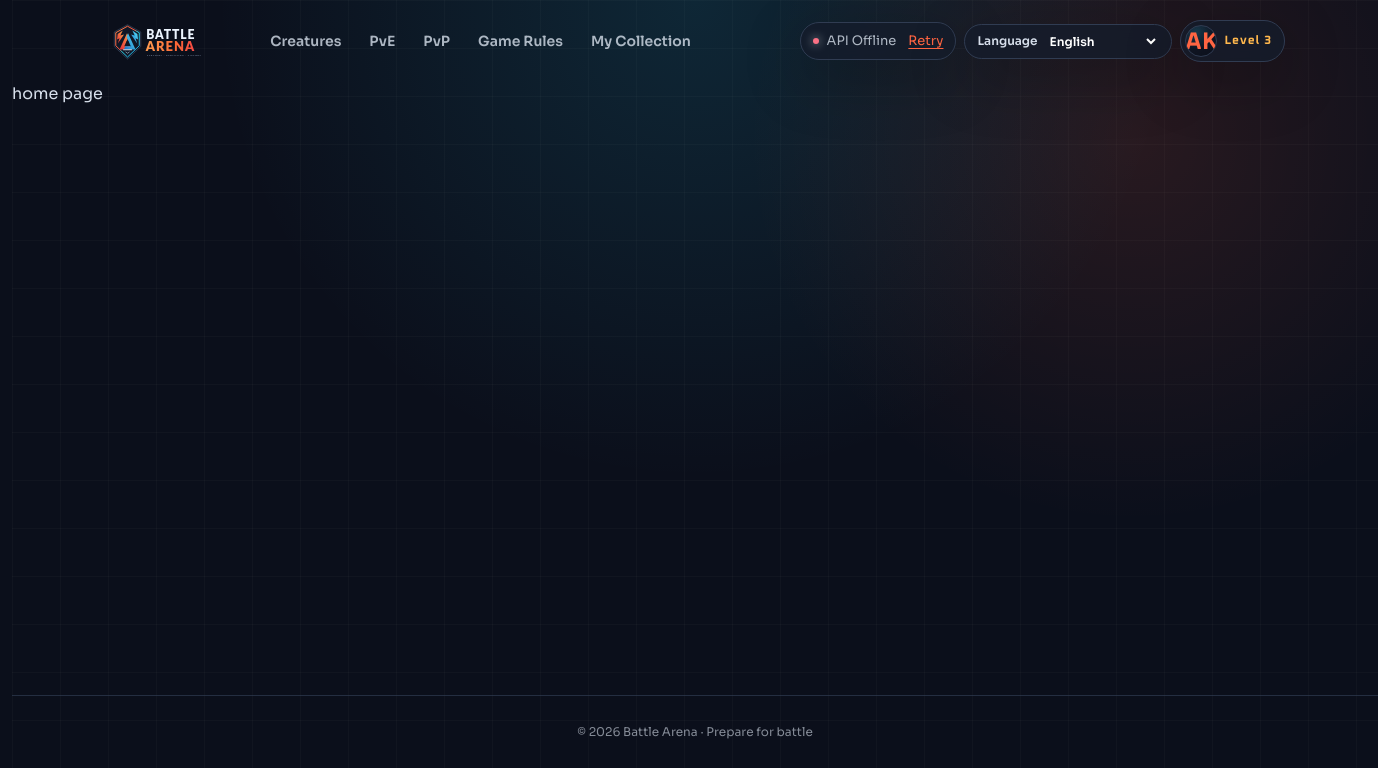
Scenario: AppShell navigation › closes the dropdown with Escape and on outside click
The width and height of the screenshot is (1378, 768).
Step 1. Click the button with aria-label "Account menu" → {"x": 1232, "y": 41}, box left=1180, top=20, right=1285, bottom=62
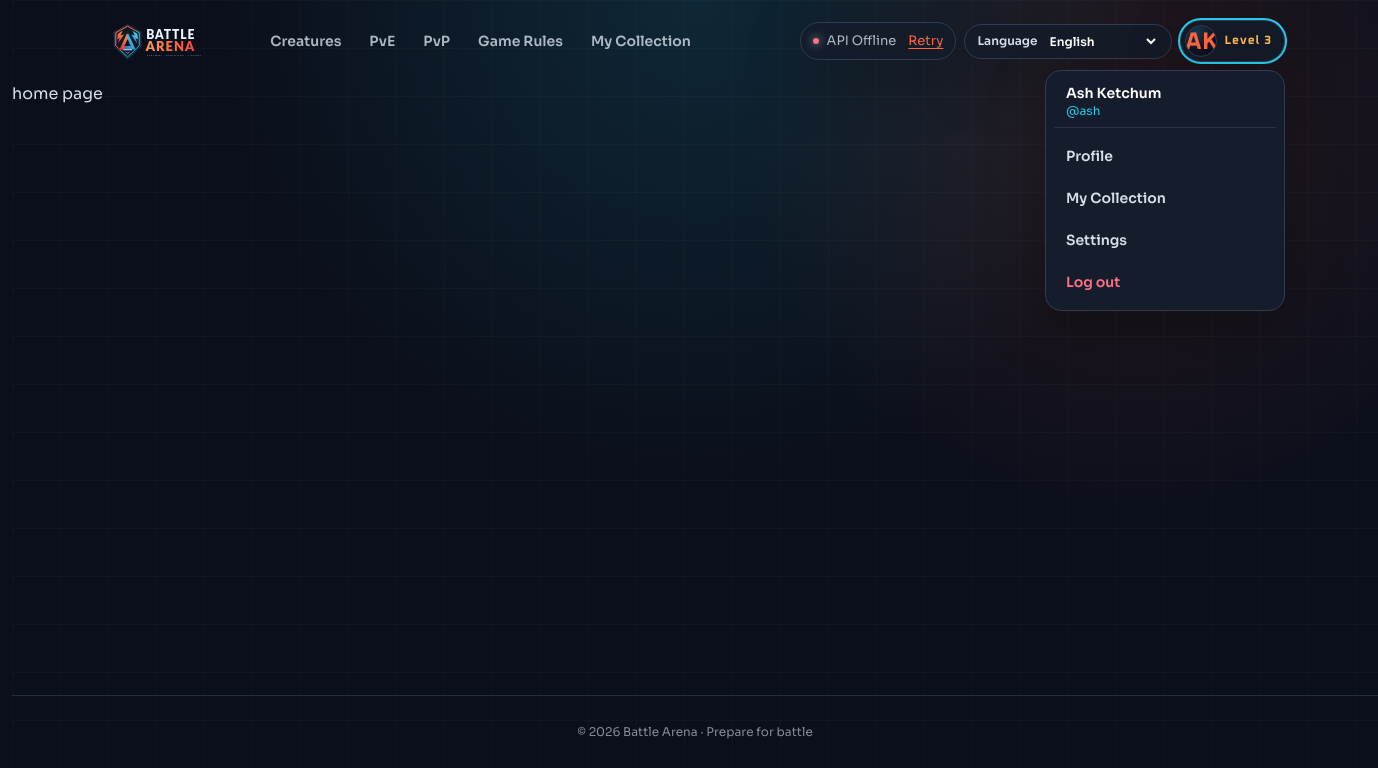
Step 2. Press Escape
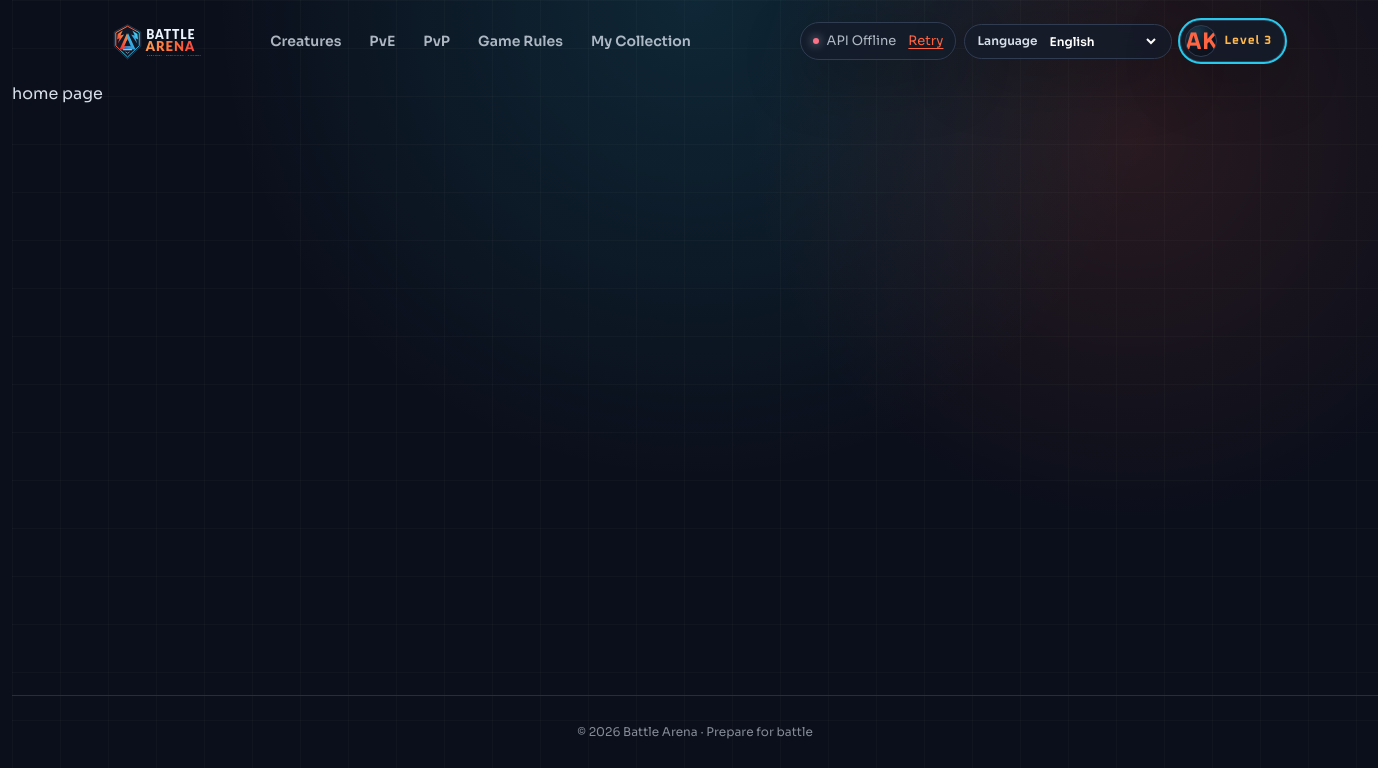
Expected: the link "Profile" is gone
Step 3. Click the button with aria-label "Account menu" → {"x": 1232, "y": 41}, box left=1180, top=20, right=1285, bottom=62
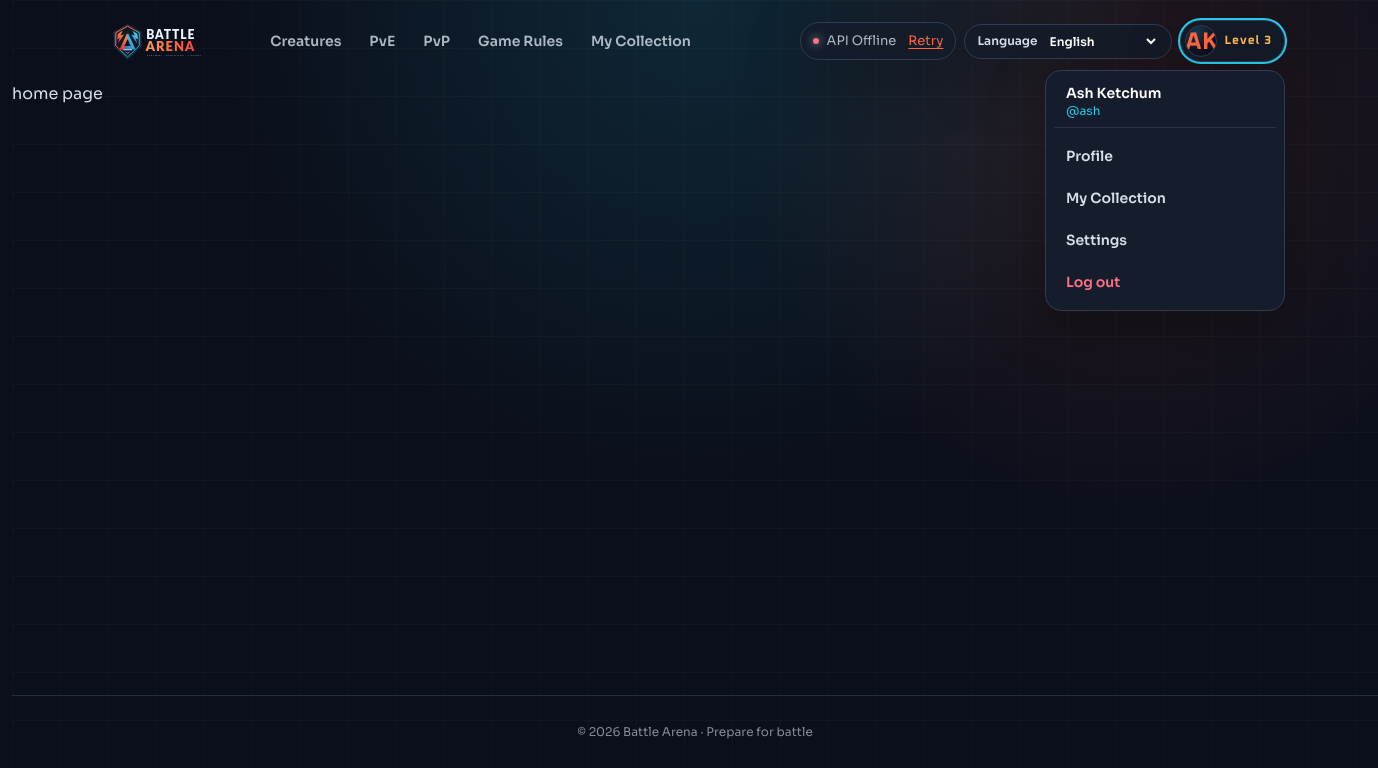
Step 4. Click the text "home page" → {"x": 57, "y": 94}, box left=12, top=83, right=103, bottom=104
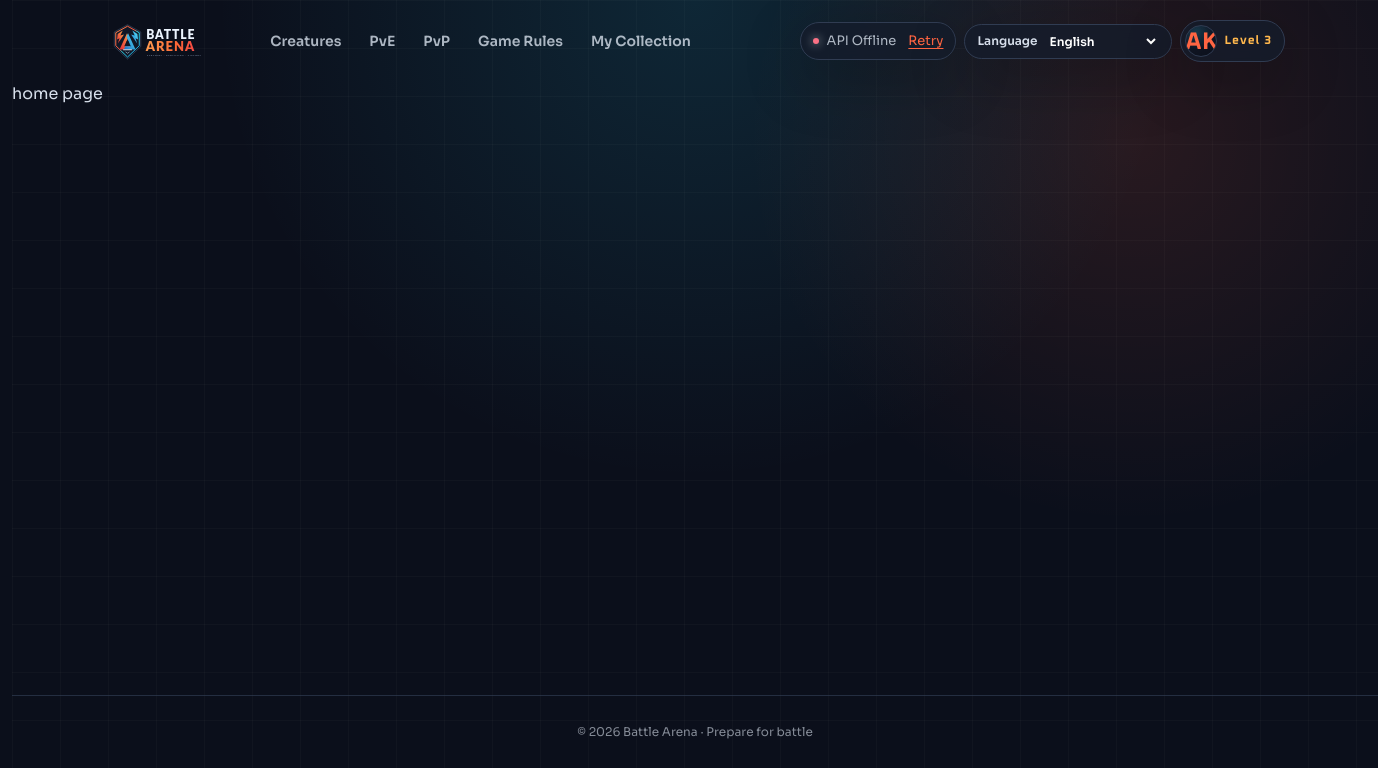
Expected: the link "Profile" is gone
